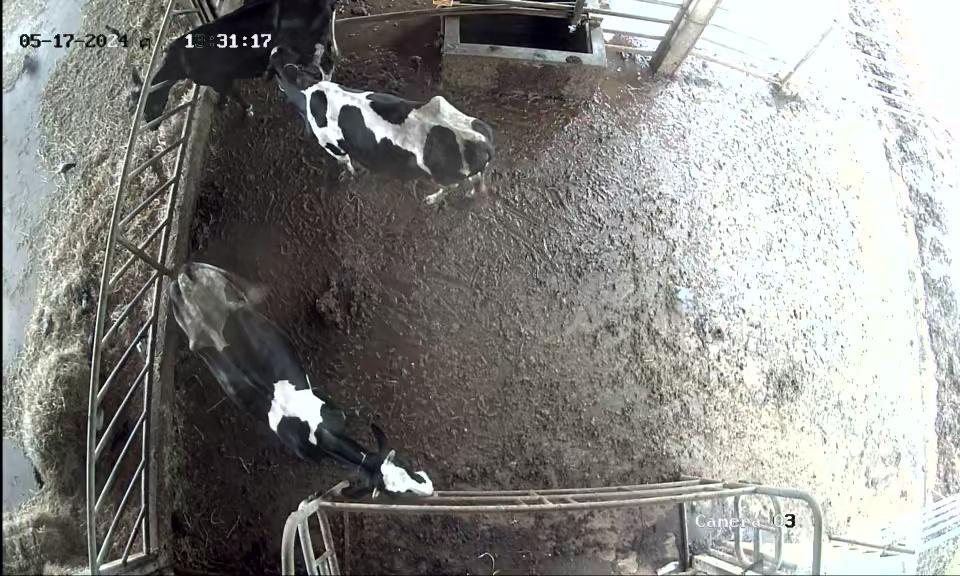eat: (113, 42, 211, 141)
stand: (163, 254, 439, 501), (267, 46, 502, 211)
